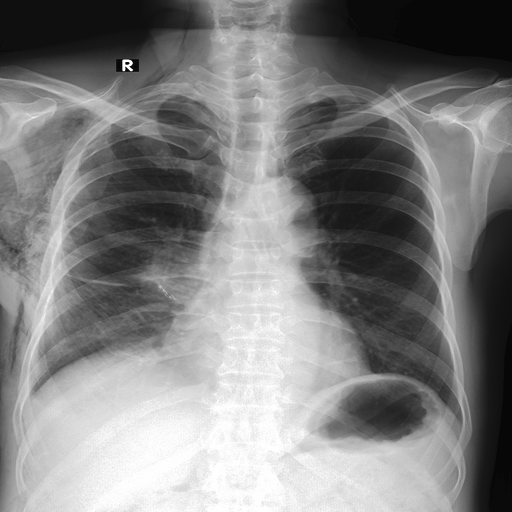Consolidation: (260, 178, 316, 234)
Other lesion: (0, 103, 84, 395), (113, 4, 206, 108), (150, 285, 177, 301)
Pneumothorax: (61, 269, 127, 288), (122, 116, 164, 134)
